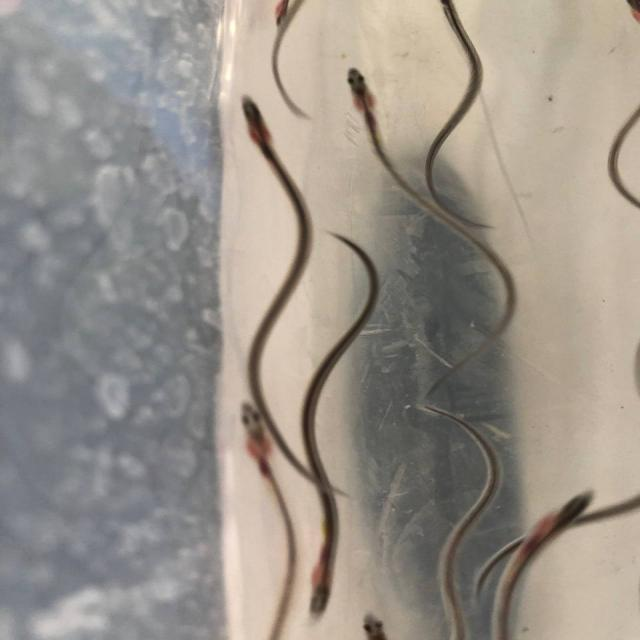glass_eel: (232, 398, 286, 468), (227, 92, 276, 167), (334, 57, 389, 119), (299, 548, 343, 624), (530, 484, 608, 524), (355, 607, 397, 640), (267, 0, 304, 33)
